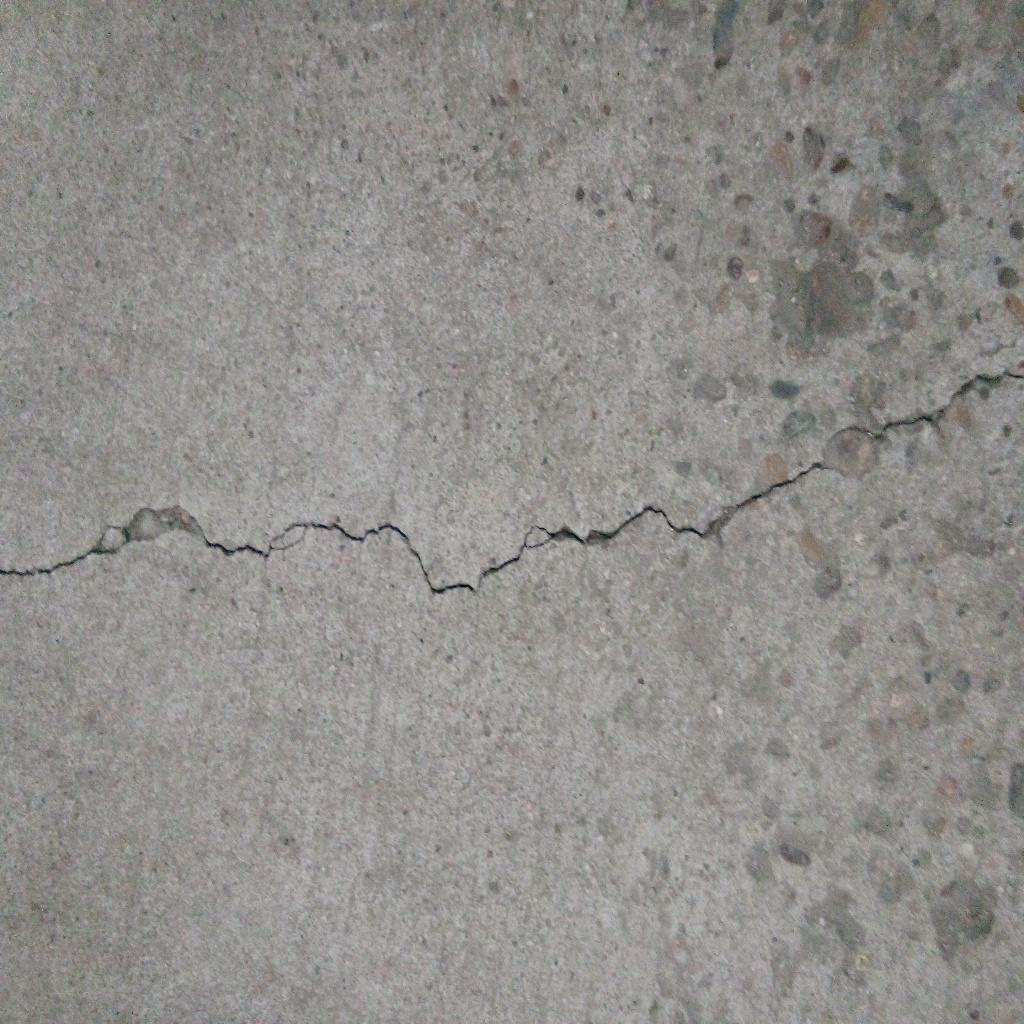Crack: (1, 369, 1024, 598)
